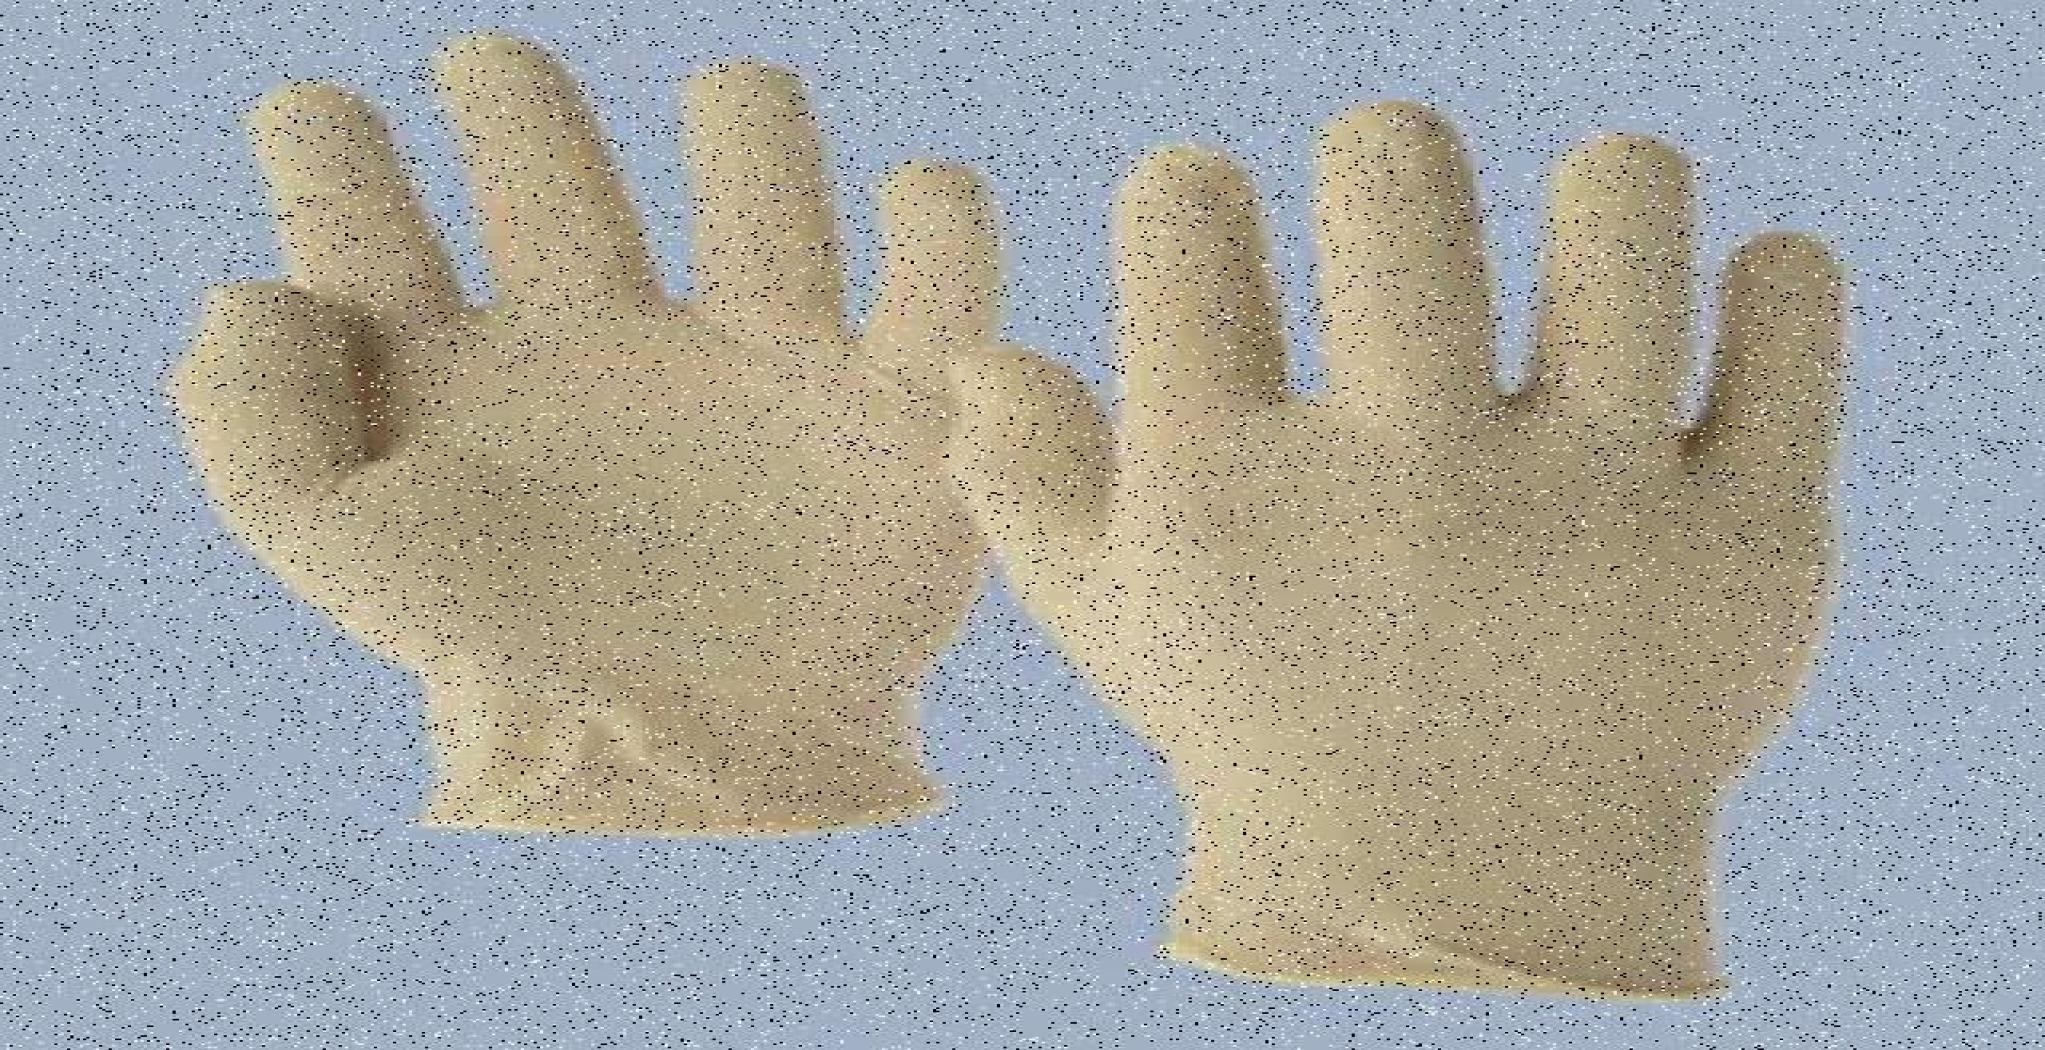gloved: (177, 51, 1008, 821), (1047, 96, 1746, 1010)
